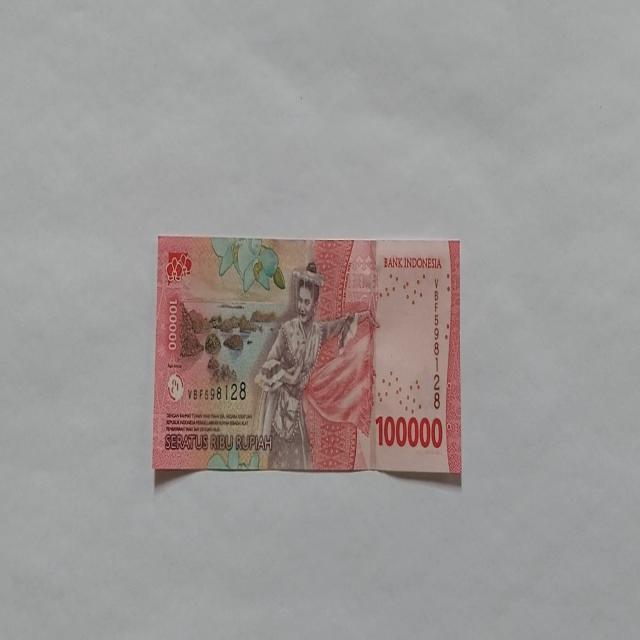seratus ribu rupiah: (152, 235, 462, 478), (252, 262, 358, 470)
